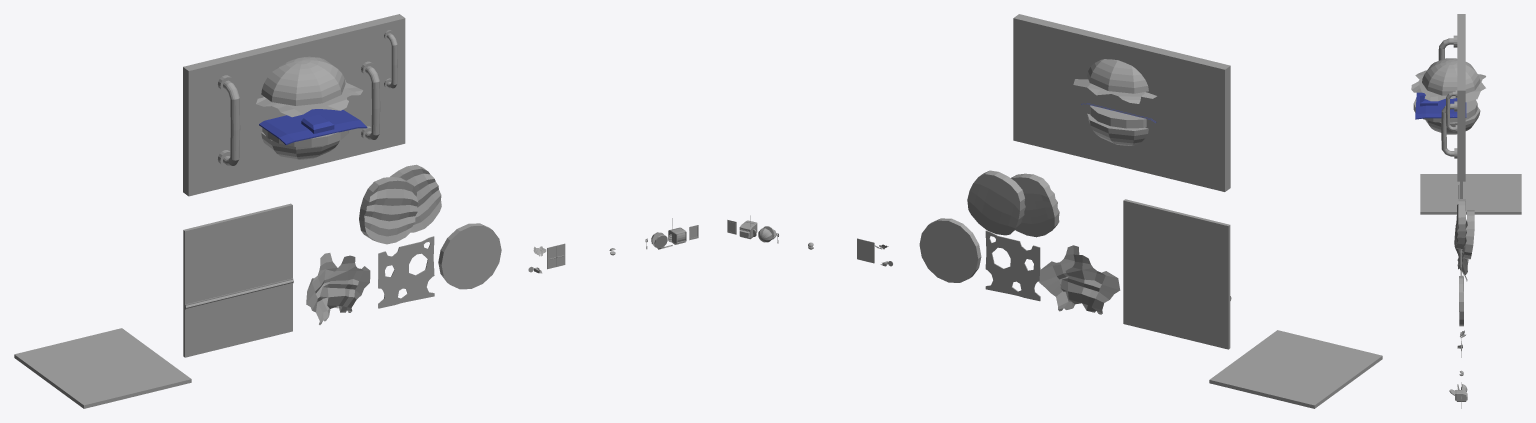
Rendered from Buns.obj.
3 views of the same model, side by side, from view 1: azimuth 30°, elevation 25°; view 2: azimuth 150°, elevation 25°; view 3: azimuth 270°, elevation 25° (orthographic). The views are drawn at different scales.
Visible parts, largest first — view 1: Cylinder.012_Cylinder.026, Cube.001_Cube.021, Cube.004_Cube.031, Sphere.000_Sphere.010, Cylinder.004_Cylinder.008, Cylinder.001_Cylinder.006, Plane.002_Plane.012, Plane.004_Plane.011; view 2: Cylinder.012_Cylinder.026, Cube.001_Cube.021, Cube.004_Cube.031, Cylinder.004_Cylinder.008, Sphere.000_Sphere.010, Plane.002_Plane.012, Cylinder.001_Cylinder.006, Plane.004_Plane.011; view 3: Cube.004_Cube.031, Sphere.000_Sphere.010, Cylinder.012_Cylinder.026, Cylinder.004_Cylinder.008, Cylinder.001_Cylinder.006, Plane.002_Plane.012, Cube_Cube.018.
Boxes of the visible parts, x1,y1,x2,y2 form: Cylinder.012_Cylinder.026: (183,14,405,196); Cube.001_Cube.021: (183,203,293,357); Cube.004_Cube.031: (14,328,191,408); Sphere.000_Sphere.010: (256,56,367,159); Cylinder.004_Cylinder.008: (359,164,441,244); Cylinder.001_Cylinder.006: (438,223,501,289); Plane.002_Plane.012: (306,253,370,324); Plane.004_Plane.011: (378,236,434,308); Cylinder.012_Cylinder.026: (1013,14,1230,191); Cube.001_Cube.021: (1123,199,1231,349); Cube.004_Cube.031: (1209,330,1382,408); Cylinder.004_Cylinder.008: (967,170,1059,237); Sphere.000_Sphere.010: (1073,59,1156,145); Plane.002_Plane.012: (1039,245,1120,314); Cylinder.001_Cylinder.006: (919,218,981,282); Plane.004_Plane.011: (985,230,1040,301); Cube.004_Cube.031: (1420,174,1521,214); Sphere.000_Sphere.010: (1411,58,1485,134); Cylinder.012_Cylinder.026: (1438,14,1465,181); Cylinder.004_Cylinder.008: (1454,199,1474,259); Cylinder.001_Cylinder.006: (1459,275,1463,326); Plane.002_Plane.012: (1454,237,1468,281); Cube_Cube.018: (1455,389,1467,401).
Bounding box in the file's own units: 573 × 250 × 117.
